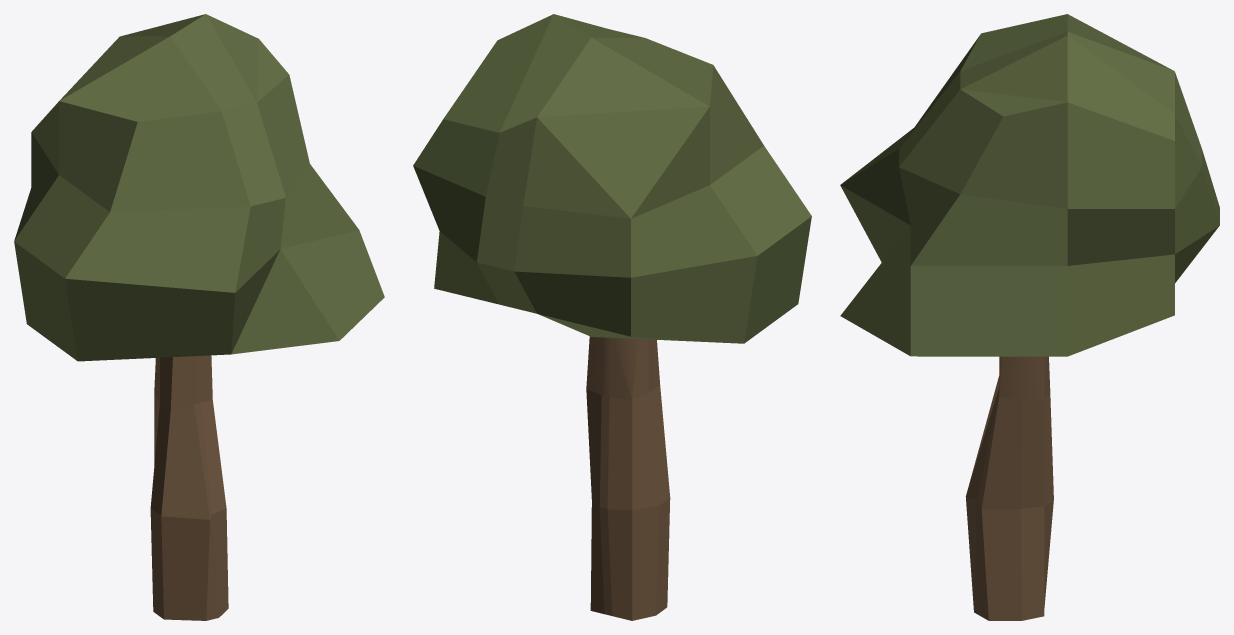
The model's file is tree1.fbx.
The picture shows the model from 3 angles, left to right: view 1: azimuth 30°, elevation 25°; view 2: azimuth 150°, elevation 25°; view 3: azimuth 270°, elevation 25°; orthographic projection. The views are drawn at different scales.
Visible parts, largest first — view 1: tree; view 2: tree; view 3: tree.
Part boxes in pixels (box(x1,y1,x2,y2)): tree: box(14, 14, 384, 620); tree: box(413, 14, 811, 620); tree: box(840, 14, 1219, 620).
Bounding box in the file's own units: 482 × 875 × 508.
